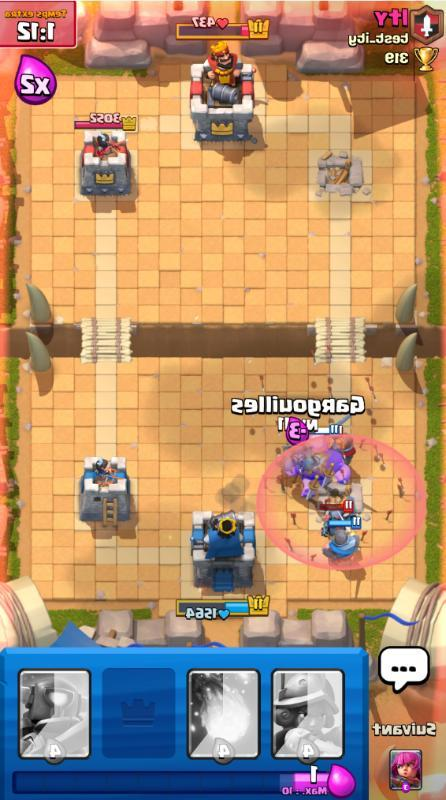chevalier: (322, 517, 362, 566), (328, 412, 356, 466)
geant: (284, 425, 351, 500)
mini_PEKKA: (319, 496, 356, 538)
